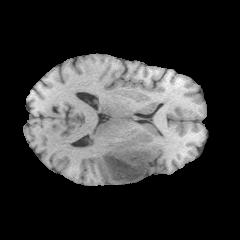glioma: (71, 145, 152, 183)
